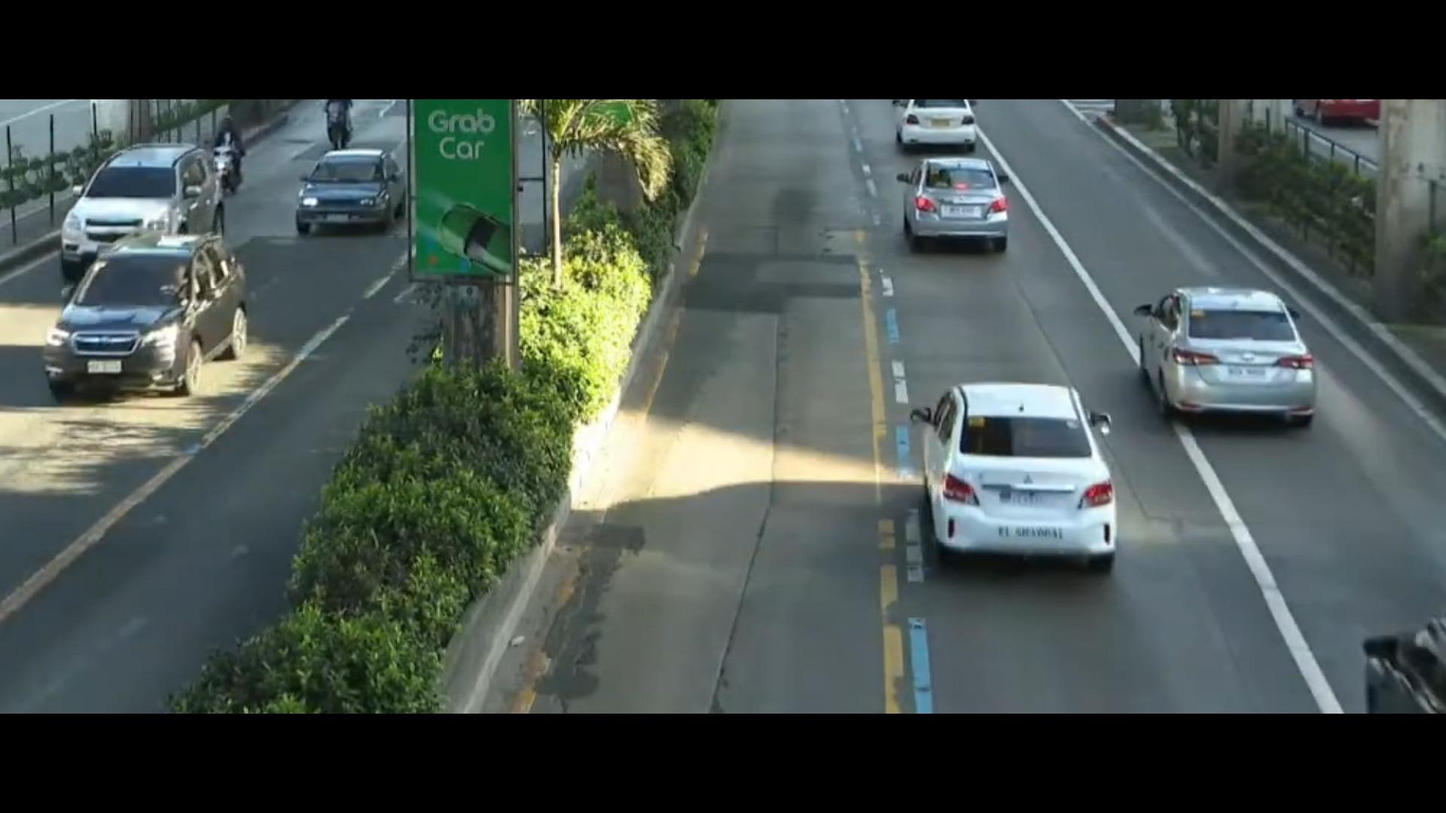Motorcycle: (212, 111, 260, 188), (314, 93, 373, 136)
SUV: (42, 217, 256, 405), (42, 134, 236, 262)
Sedan: (849, 349, 1138, 595), (1105, 281, 1344, 437), (891, 142, 1028, 276), (298, 142, 419, 259)
